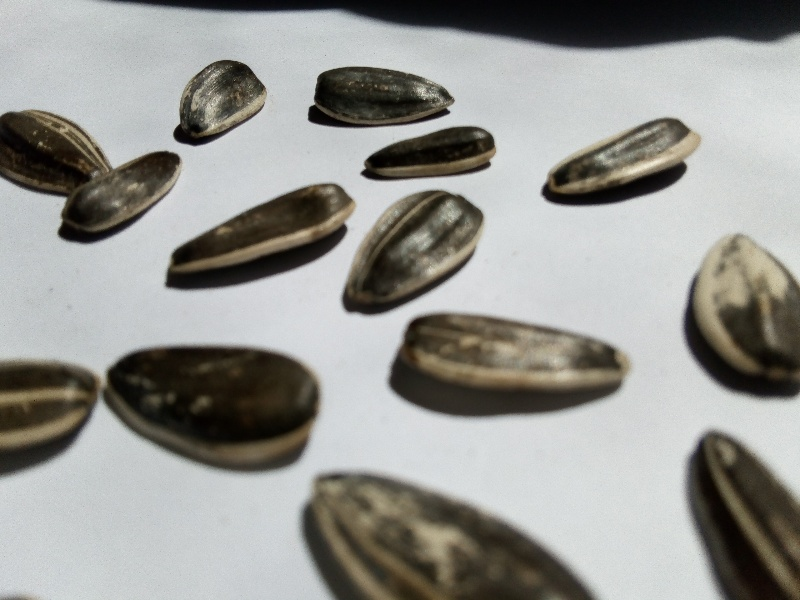w: (106, 331, 330, 473), (395, 309, 635, 420), (543, 106, 712, 217), (303, 55, 460, 126), (168, 53, 278, 147)
